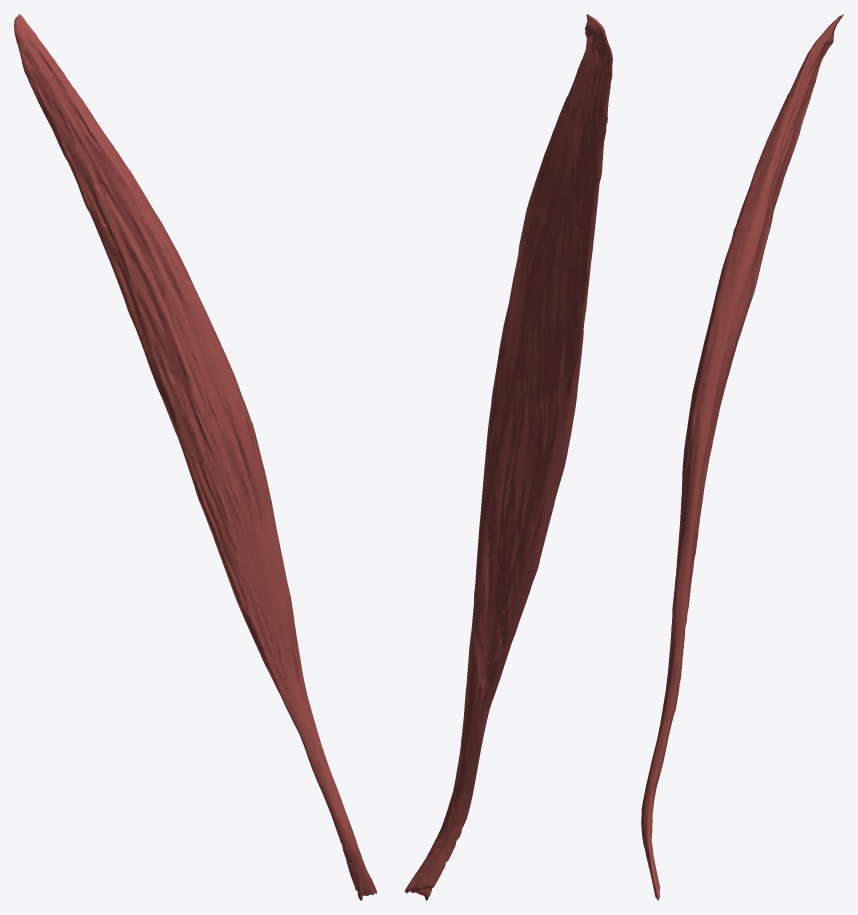
Rendered from FMA38461.glb.
The picture shows the model from 3 angles, left to right: view 1: azimuth 30°, elevation 25°; view 2: azimuth 150°, elevation 25°; view 3: azimuth 270°, elevation 25°; orthographic projection. The views are drawn at different scales.
Visible parts, largest first — view 1: FMA38461; view 2: FMA38461; view 3: FMA38461.
Part boxes in pixels (x1,y1,x2,y2): FMA38461: [14, 14, 376, 900]; FMA38461: [405, 14, 612, 900]; FMA38461: [641, 14, 843, 900].
Size of the model in its own units: 0.0877 by 0.2766 by 0.0653.
